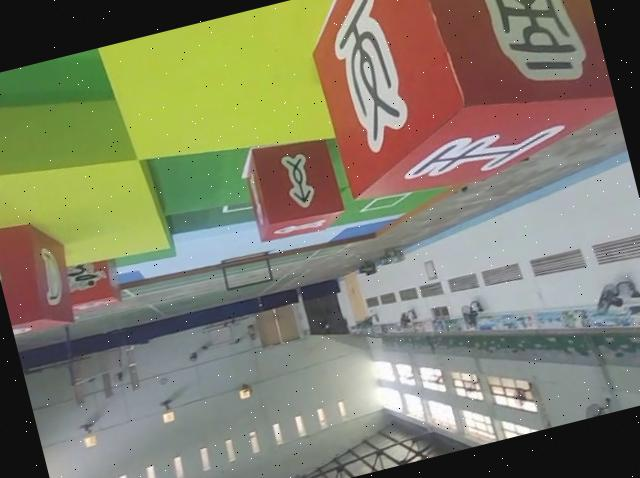R1: (52, 247, 130, 320)
R2 Fake: (300, 0, 627, 217)
R2 Real: (233, 124, 352, 249), (0, 205, 83, 343)
